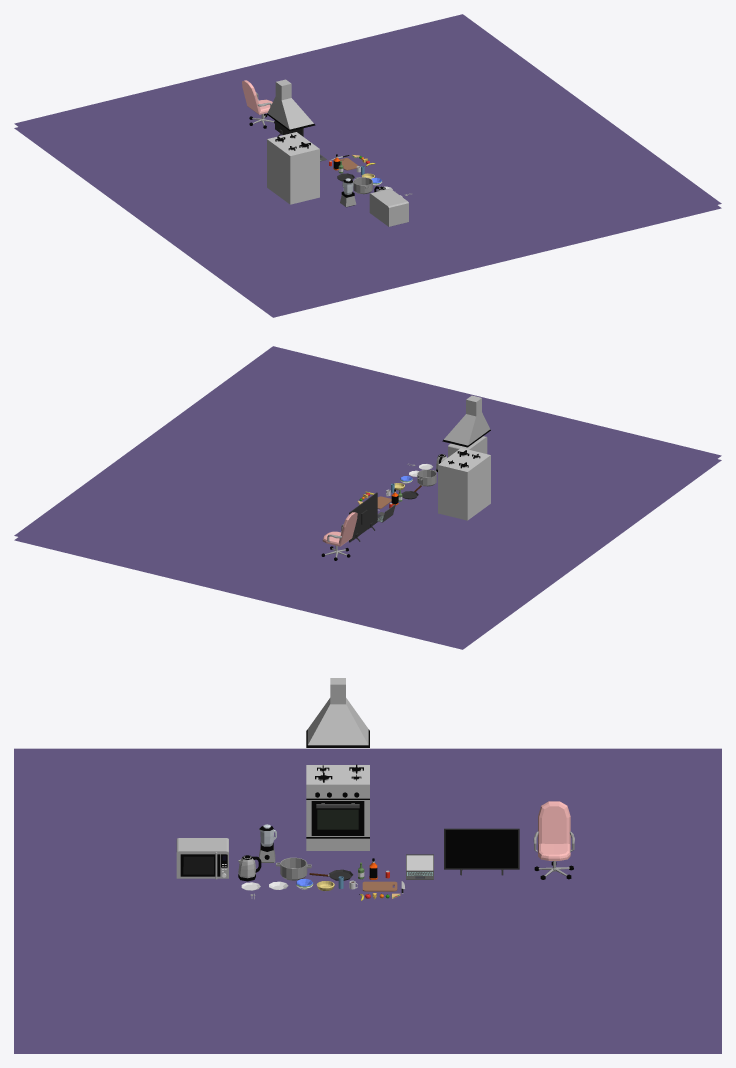
File: Dishes.fbx
3 renders of one model, top to bottom at view 1: azimuth 30°, elevation 25°; view 2: azimuth 150°, elevation 25°; view 3: azimuth 270°, elevation 25°, orthographic. The views are drawn at different scales.
Parts seen in each view (by area): view 1: Floor.001, Floor, Stove, Cube, Microwawe, Computer chair; view 2: Floor.001, Floor, Stove, Cube, TV, Computer chair; view 3: Floor.001, Stove, Floor, TV, Cube, Computer chair, Microwawe, Notebook, Stewpan.
Boxes of the visible parts, x1,y1,x2,y2 form: Floor.001: [14, 14, 721, 313]; Floor: [14, 127, 721, 317]; Stove: [267, 132, 319, 204]; Cube: [267, 79, 315, 131]; Microwawe: [369, 188, 408, 226]; Computer chair: [242, 80, 274, 128]; Floor.001: [14, 346, 721, 645]; Floor: [14, 459, 721, 649]; Stove: [438, 448, 490, 520]; Cube: [442, 395, 490, 447]; TV: [349, 492, 377, 542]; Computer chair: [321, 512, 357, 560]; Floor.001: [14, 748, 721, 1047]; Stove: [306, 764, 369, 850]; Floor: [14, 1047, 721, 1053]; TV: [444, 828, 519, 875]; Cube: [306, 678, 369, 747]; Computer chair: [533, 801, 574, 879]; Microwawe: [176, 838, 228, 879]; Notebook: [406, 854, 433, 879]; Stewpan: [276, 857, 311, 880].
Bounding box in the file's own units: 2000 × 497 × 2000.
